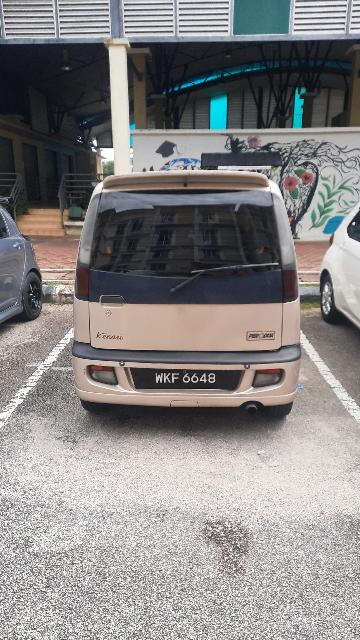License_Plate: (123, 361, 248, 398)
car: (67, 155, 316, 428)
